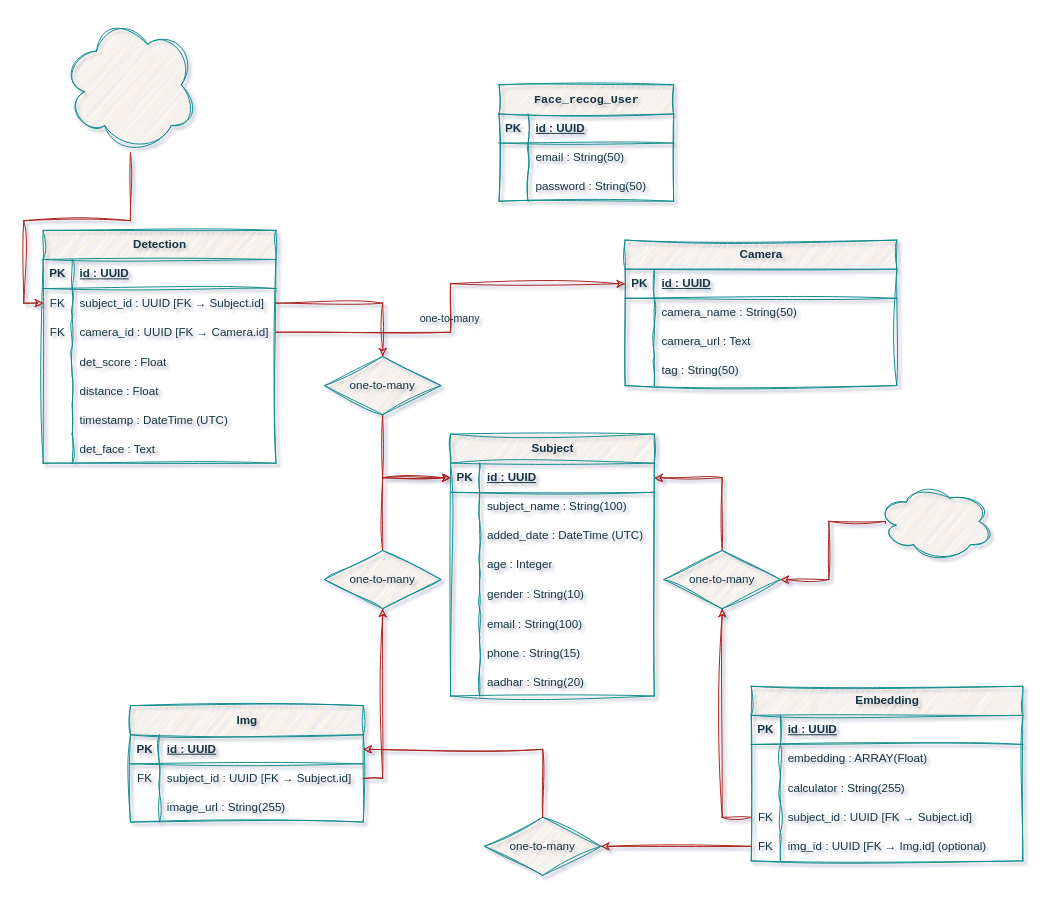
This 1046x898 diagram has some shape labels left out. The centre of each missing label's shape, as x and y in pixels:
"if sub.id null then Unknown else sub.id.name" goes at [130,84].
"its necessary for verification" goes at [935,521].
